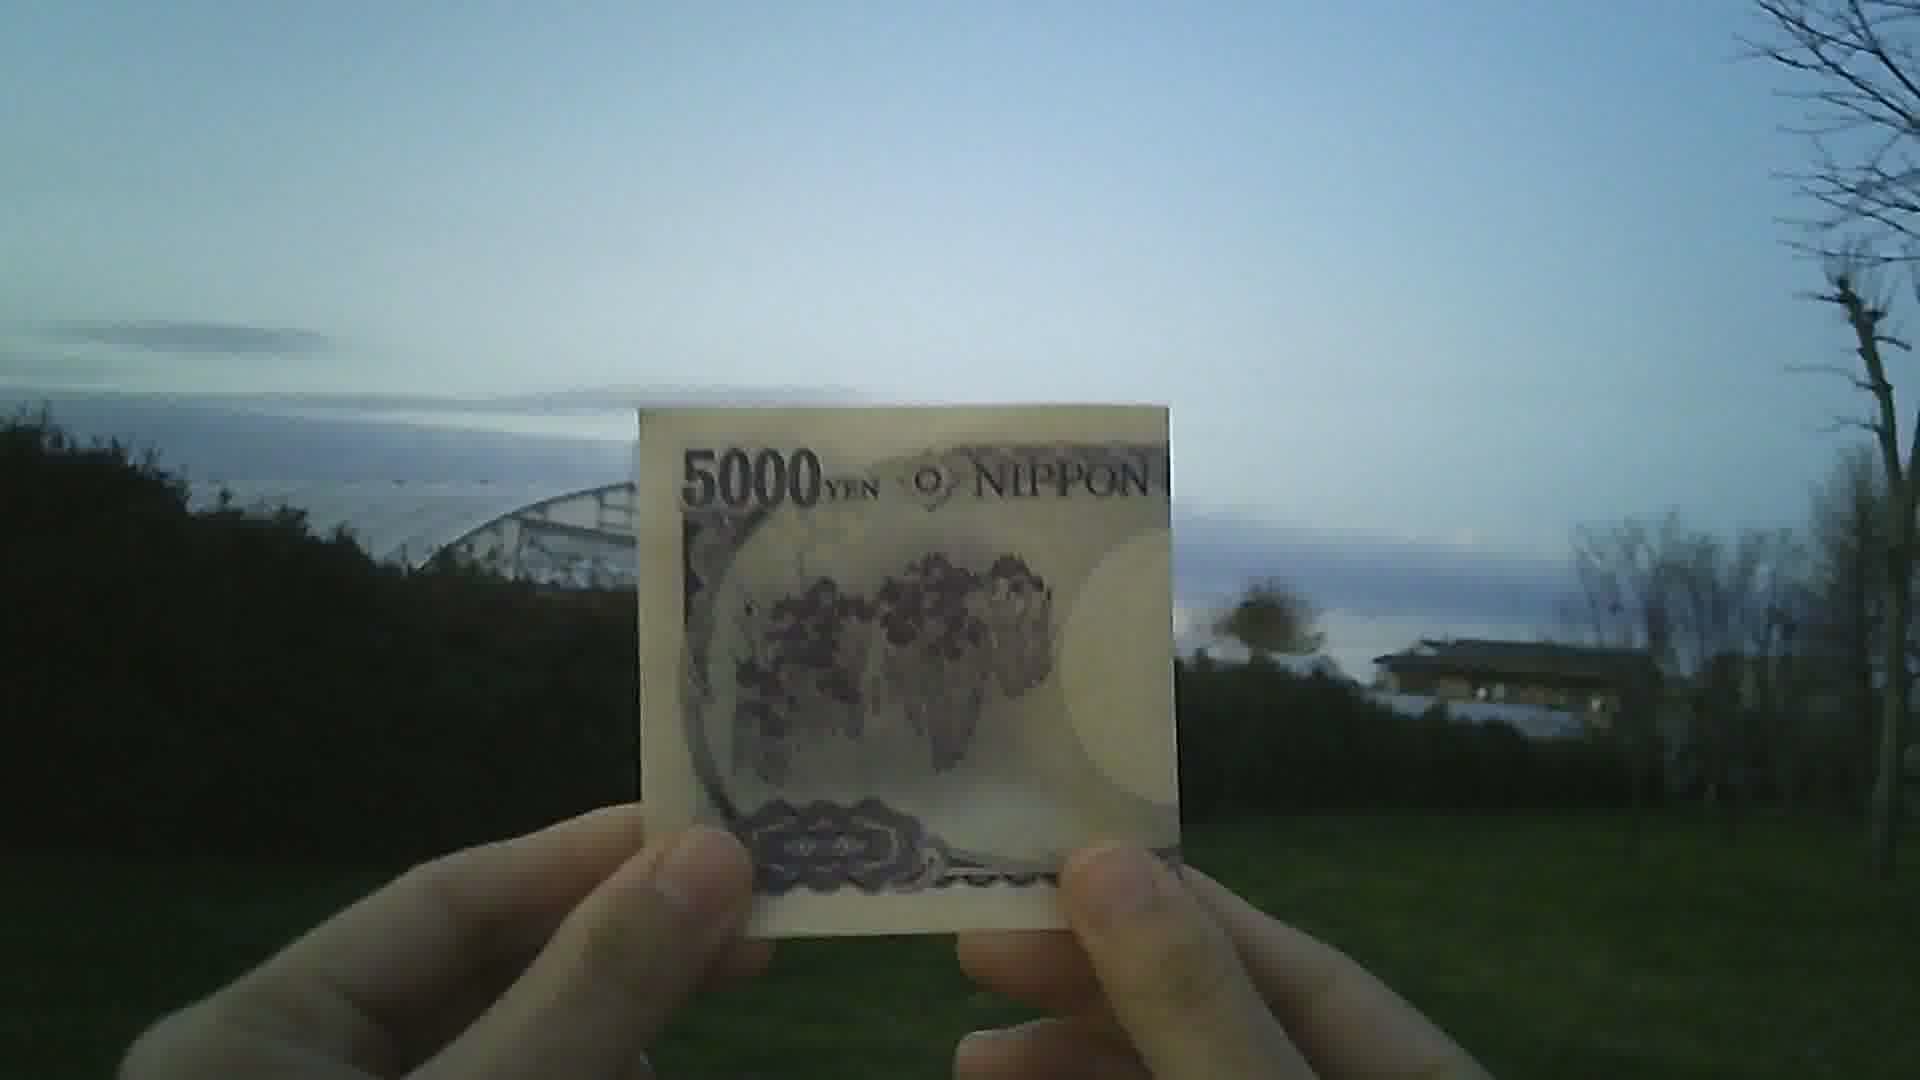5,000 Yen: (622, 386, 1218, 943)
